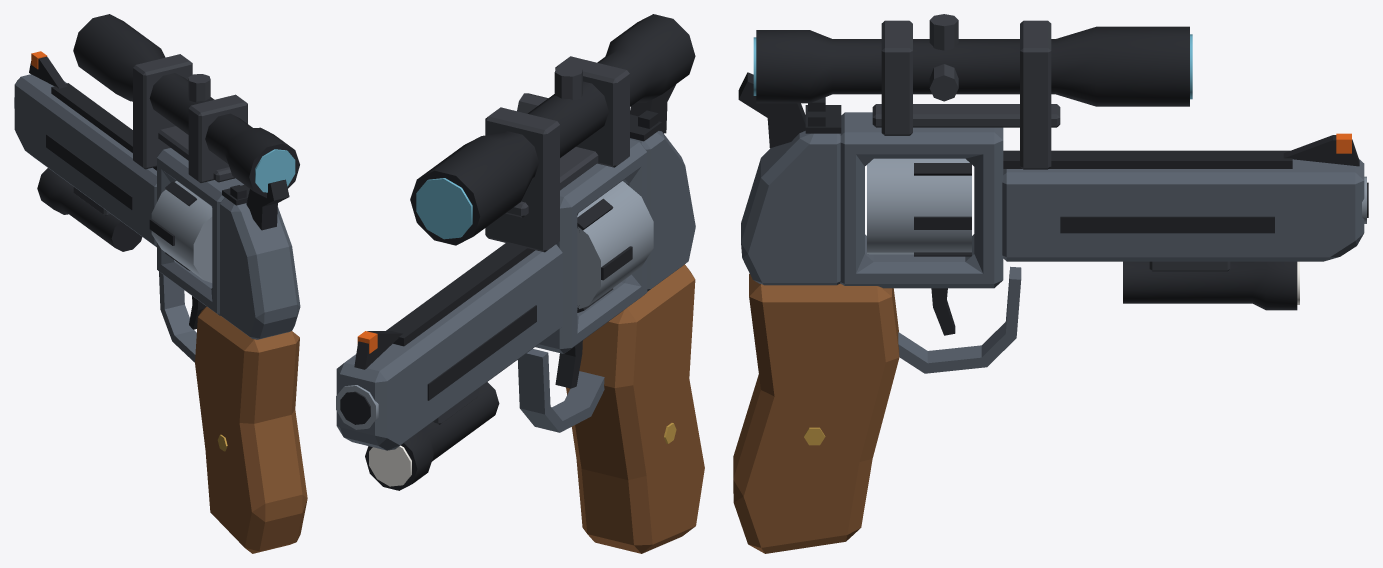
Rendered from heavy_pistol.glb.
The picture shows the model from 3 angles, left to right: view 1: azimuth 30°, elevation 25°; view 2: azimuth 150°, elevation 25°; view 3: azimuth 270°, elevation 25°; orthographic projection. The views are drawn at different scales.
Visible parts, largest first — view 1: Body, Att_Scope, Mag, Att_Flashlight; view 2: Body, Att_Scope, Mag, Att_Flashlight; view 3: Body, Att_Scope, Mag, Att_Flashlight.
Boxes of the visible parts, x1,y1,x2,y2 form: Body: (14, 51, 307, 553); Att_Scope: (73, 14, 299, 197); Mag: (149, 181, 212, 282); Att_Flashlight: (37, 168, 142, 251); Body: (336, 84, 704, 553); Att_Scope: (410, 14, 695, 252); Mag: (577, 181, 653, 312); Att_Flashlight: (365, 382, 499, 490); Body: (733, 72, 1368, 553); Att_Scope: (753, 14, 1192, 169); Mag: (867, 158, 971, 256); Att_Flashlight: (1123, 261, 1299, 310).
Size of the model in its own units: 0.05 by 0.258 by 0.2844.
